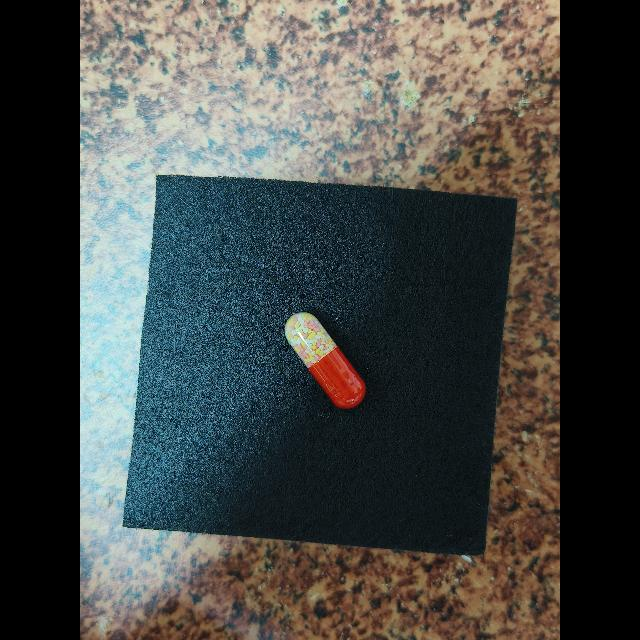Intact Capsule: (285, 312, 366, 408)
